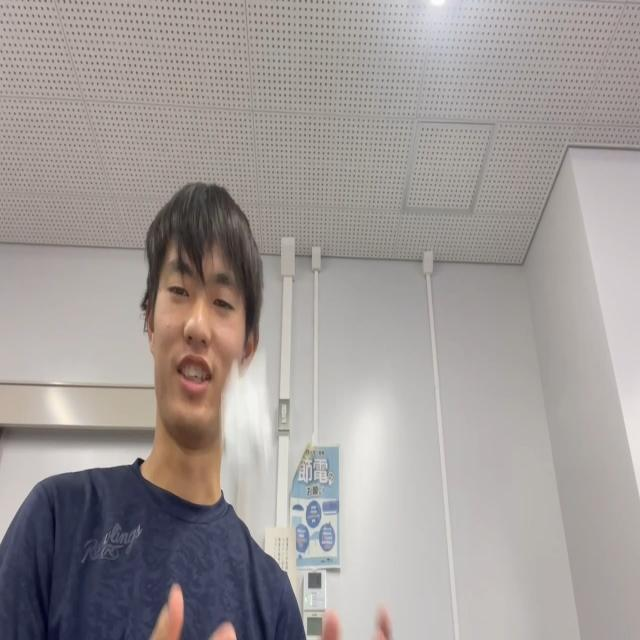paper: (223, 356, 275, 485)
